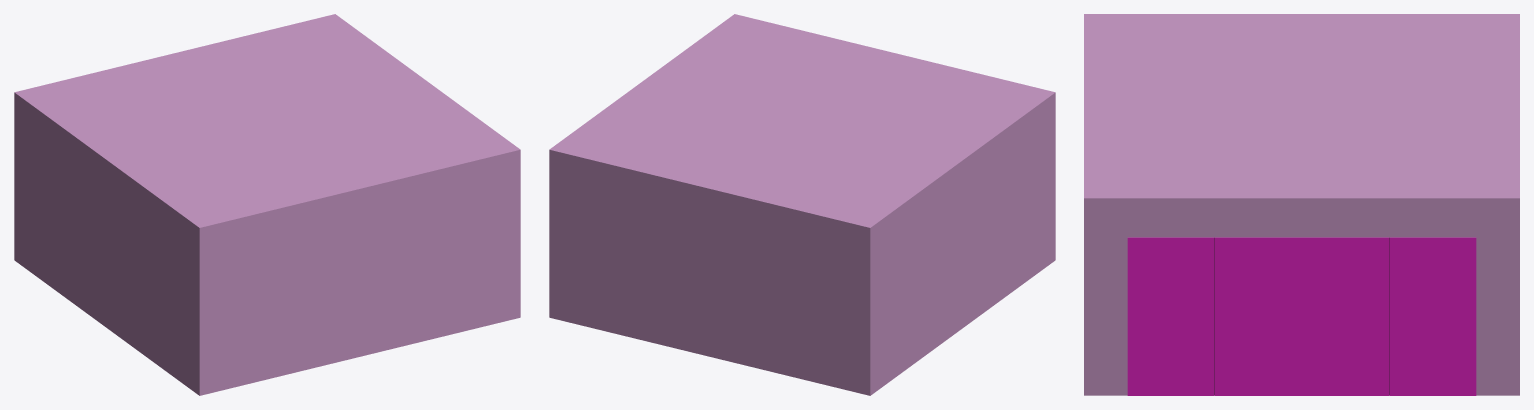
Rendered from start_room.fbx.
3 renders of one model, left to right at view 1: azimuth 30°, elevation 25°; view 2: azimuth 150°, elevation 25°; view 3: azimuth 270°, elevation 25°, orthographic. The views are drawn at different scales.
Parts seen in each view (by area): view 1: start_box_MESH; view 2: start_box_MESH; view 3: start_box_MESH, startbox_door1_COL, startbox_door4_COL, startbox_door2_COL, startbox_door3_COL.
Part boxes in pixels (x1=…): start_box_MESH: x1=14, y1=14, x2=520, y2=395; start_box_MESH: x1=549, y1=14, x2=1055, y2=395; start_box_MESH: x1=1084, y1=14, x2=1519, y2=395; startbox_door1_COL: x1=1127, y1=237, x2=1214, y2=395; startbox_door4_COL: x1=1389, y1=237, x2=1476, y2=395; startbox_door2_COL: x1=1215, y1=237, x2=1301, y2=395; startbox_door3_COL: x1=1302, y1=237, x2=1388, y2=395.
Size of the model in its own units: 2000 by 2003 by 1000.
